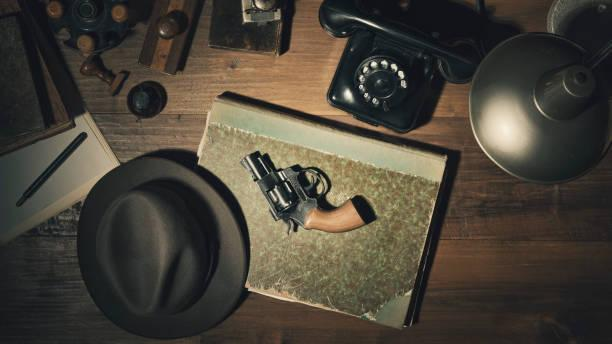weapon: (239, 148, 369, 234)
